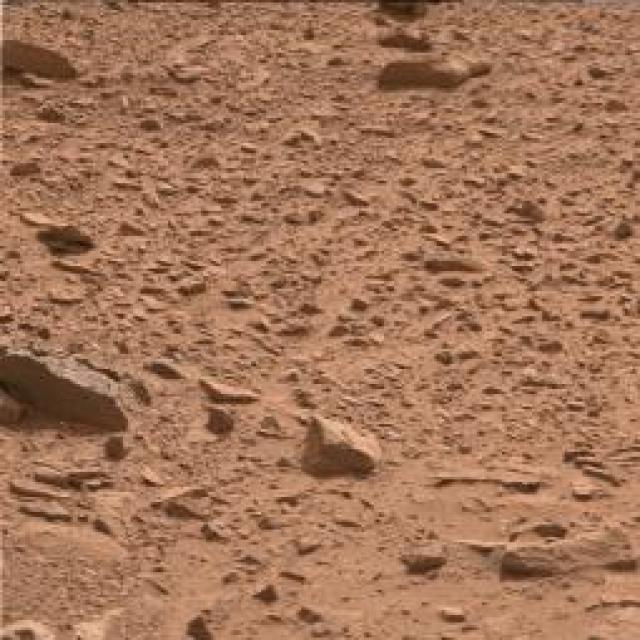rock: (0, 342, 133, 438), (491, 526, 640, 587), (304, 414, 384, 481), (380, 53, 492, 95), (0, 32, 83, 84), (374, 24, 441, 52), (368, 0, 433, 19)
